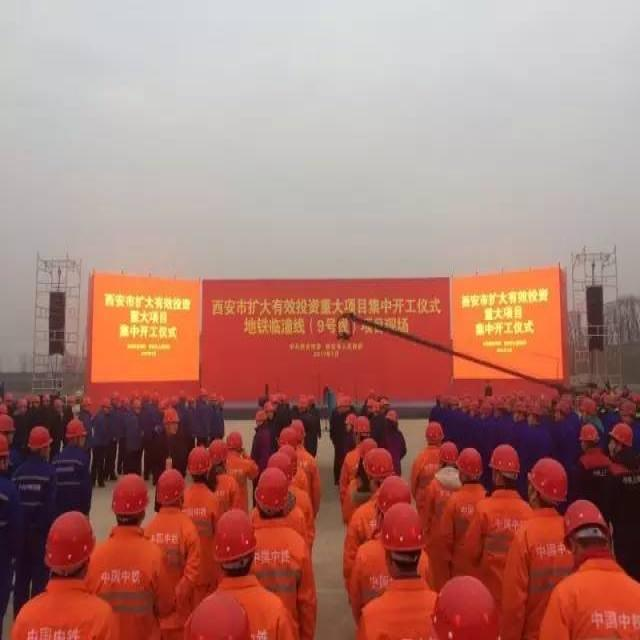helmet: (488, 591, 525, 640), (606, 562, 634, 614), (454, 593, 484, 640), (364, 596, 396, 640), (207, 583, 232, 636), (528, 608, 569, 640), (28, 567, 52, 616), (188, 593, 213, 640), (64, 554, 87, 602), (577, 562, 600, 606), (162, 539, 182, 585), (440, 587, 461, 628), (224, 573, 246, 612), (252, 620, 290, 640), (424, 560, 444, 597), (353, 549, 372, 587), (525, 538, 542, 574), (155, 623, 190, 640), (553, 534, 568, 566), (511, 534, 526, 562), (385, 546, 400, 574), (343, 548, 356, 580), (254, 545, 269, 572), (336, 527, 352, 552), (108, 632, 150, 640), (297, 531, 310, 553), (208, 524, 219, 547), (198, 516, 208, 537)
